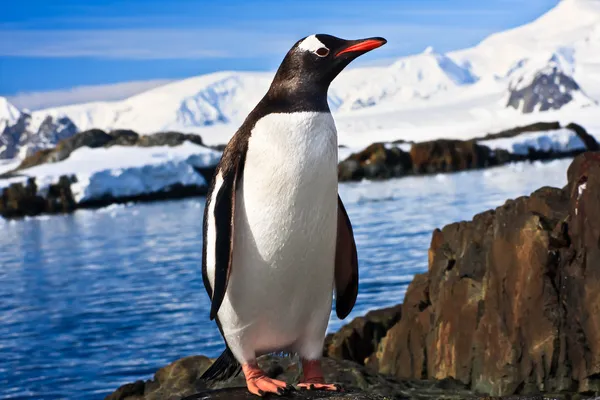wild: (262, 34, 388, 141)
